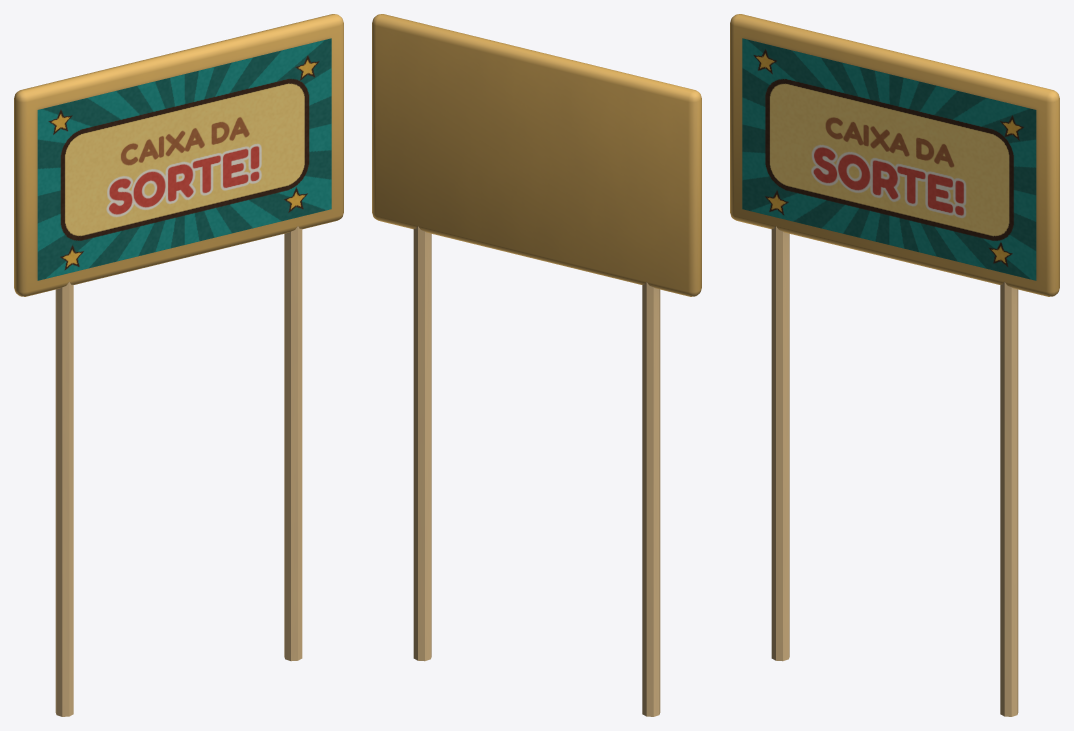
File: LuckySign.fbx
3 views of the same model, side by side, from view 1: azimuth 30°, elevation 25°; view 2: azimuth 150°, elevation 25°; view 3: azimuth 330°, elevation 25° (orthographic).
Visible parts, largest first — view 1: LuckySign; view 2: LuckySign; view 3: LuckySign.
Part boxes in pixels (x1=…): LuckySign: x1=14, y1=14, x2=343, y2=716; LuckySign: x1=372, y1=14, x2=701, y2=716; LuckySign: x1=730, y1=14, x2=1059, y2=716.
Bounding box in the file's own units: 100 × 185 × 5.5.
